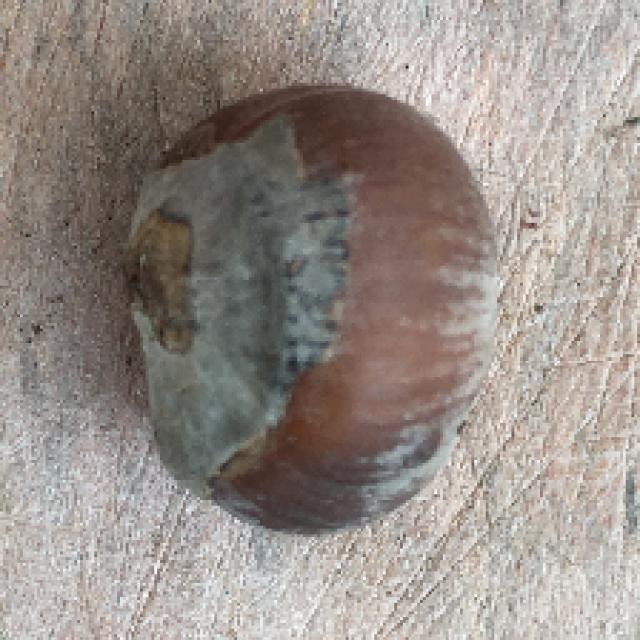damagedHazelnut: (128, 83, 510, 541)
